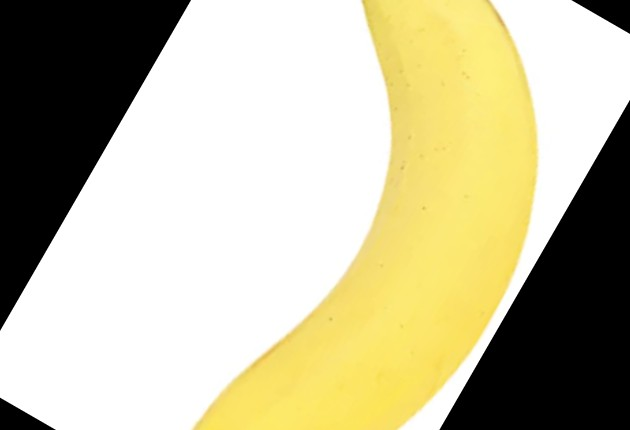fresh_banana: (196, 1, 538, 430)
